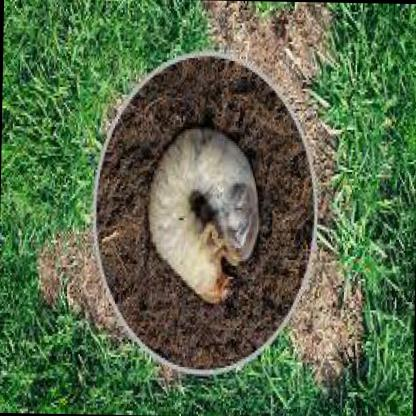root grubs: (149, 126, 261, 307)
